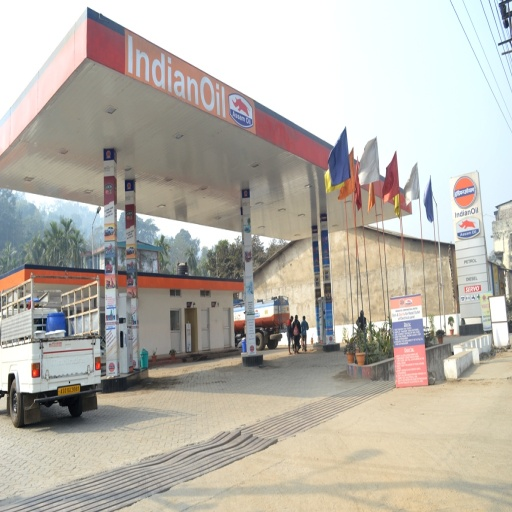roof: (3, 8, 411, 239)
